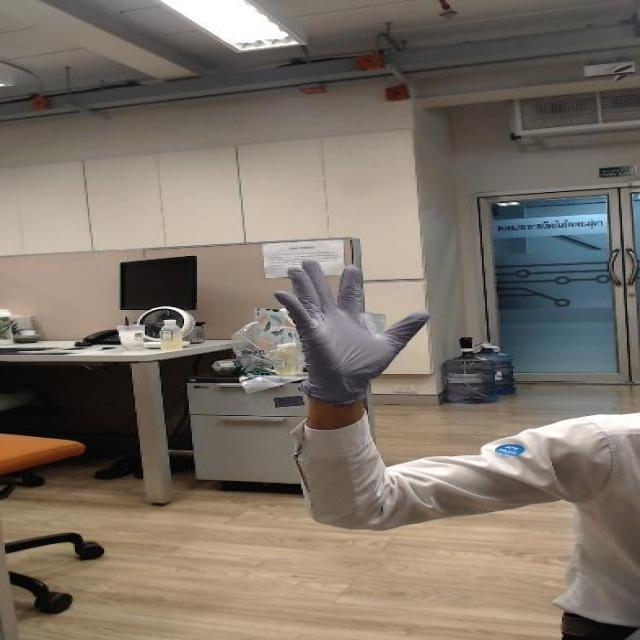with_gloves: (234, 252, 464, 392)
